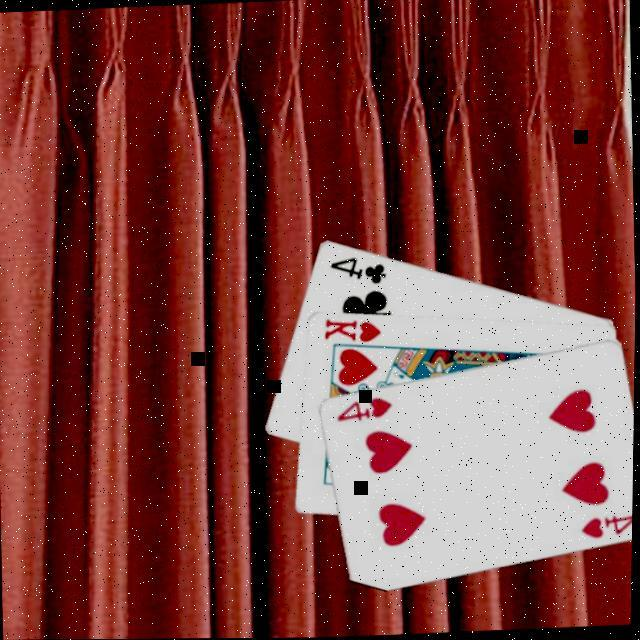4C: (328, 250, 390, 286)
4H: (333, 390, 396, 422), (579, 508, 634, 540)
KH: (322, 311, 385, 344)
